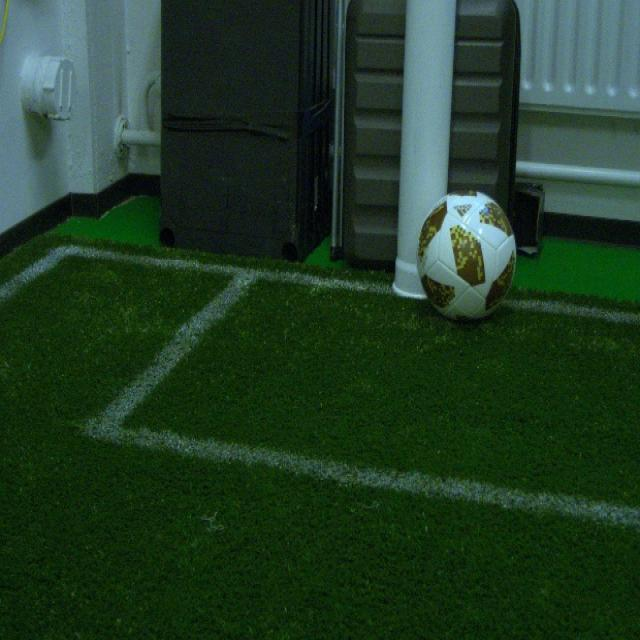ball: (418, 188, 518, 320)
goalpost: (384, 0, 468, 299)
